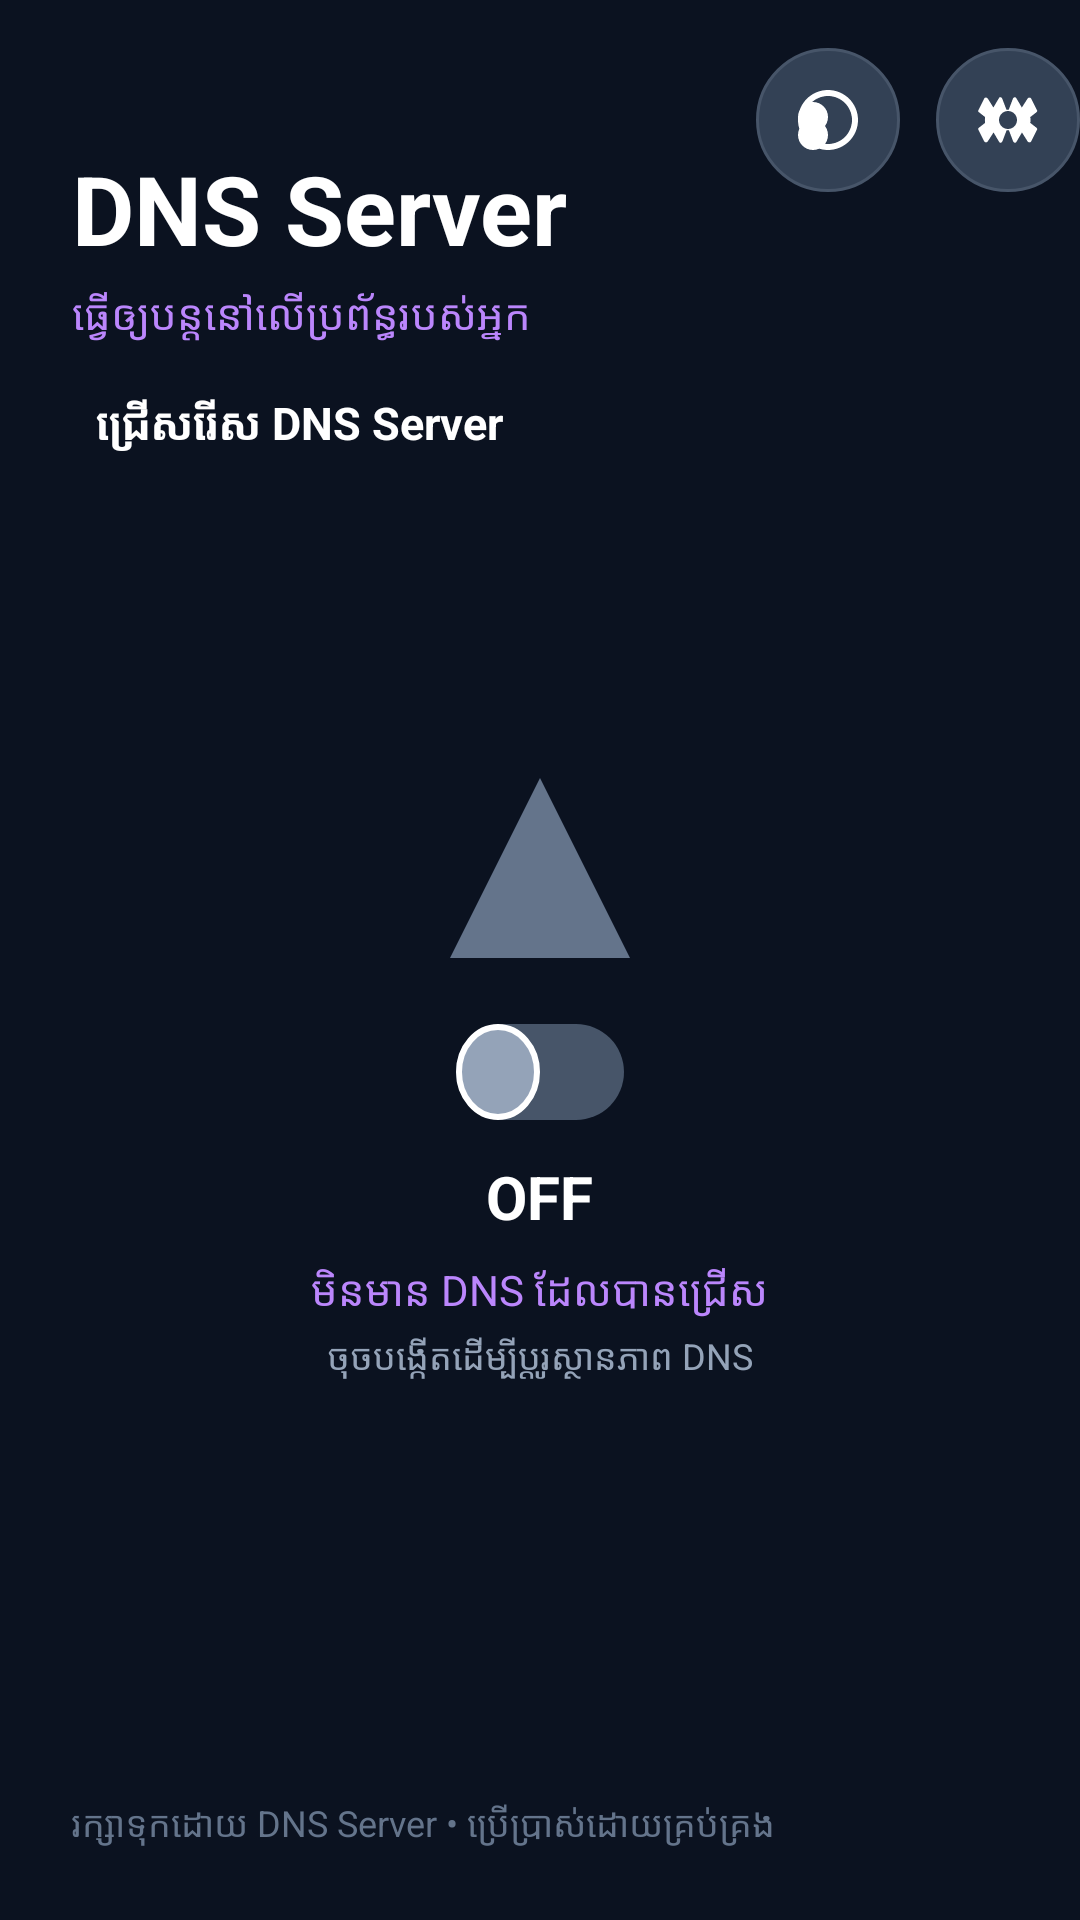

Screen size 1080 x 1920. Icon name, then its box in pixels as (x1, y1, x2, y2):
Settings: (936, 48, 1080, 192)
Theme: (756, 48, 900, 192)
